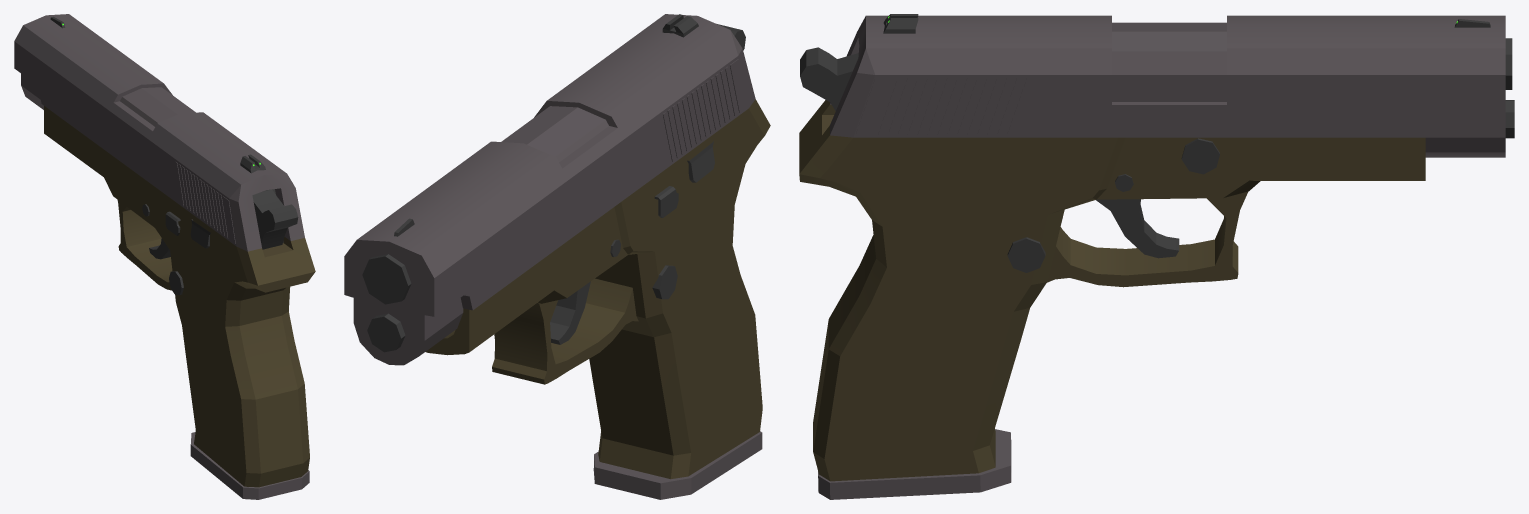
Rendered from SM_Props_gun.fbx.
The picture shows the model from 3 angles, left to right: view 1: azimuth 30°, elevation 25°; view 2: azimuth 150°, elevation 25°; view 3: azimuth 270°, elevation 25°; orthographic projection. The views are drawn at different scales.
Parts seen in each view (by area): view 1: Zatvor, Zatvor.001, garda, Zatvor.005, Cylinder.003, Cylinder.005; view 2: Zatvor, Zatvor.001, garda, Zatvor.005, Dulo, Cylinder.005, kurok; view 3: Zatvor, Zatvor.001, garda, Zatvor.005, Cylinder.005, Cylinder.003, kurok, Dulo.
Part boxes in pixels (left/top/right/bottom): Zatvor: left=44, top=106, right=315, bottom=499; Zatvor.001: left=14, top=14, right=304, bottom=251; garda: left=117, top=200, right=172, bottom=290; Zatvor.005: left=175, top=161, right=235, bottom=243; Cylinder.003: left=252, top=189, right=298, bottom=249; Cylinder.005: left=142, top=204, right=210, bottom=295; Zatvor: left=425, top=99, right=770, bottom=499; Zatvor.001: left=344, top=14, right=755, bottom=365; garda: left=492, top=278, right=638, bottom=384; Zatvor.005: left=662, top=59, right=748, bottom=161; Dulo: left=362, top=254, right=411, bottom=352; Cylinder.005: left=610, top=141, right=714, bottom=299; kurok: left=550, top=281, right=590, bottom=344; Zatvor: left=799, top=100, right=1425, bottom=499; Zatvor.001: left=830, top=14, right=1505, bottom=157; garda: left=1047, top=191, right=1248, bottom=287; Zatvor.005: left=855, top=78, right=1031, bottom=134; Cylinder.005: left=1007, top=138, right=1219, bottom=272; Cylinder.003: left=800, top=47, right=858, bottom=110; kurok: left=1096, top=199, right=1179, bottom=258; Dulo: left=1505, top=38, right=1514, bottom=138.
Size of the model in its own units: 229 by 976 by 1373.
